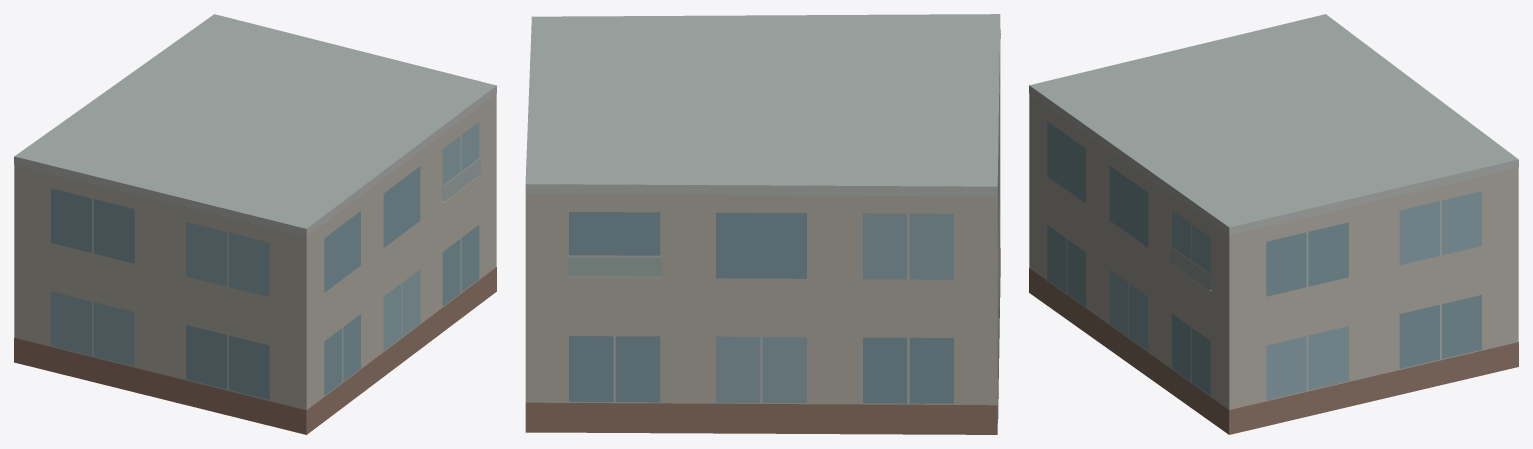
Rendered from survey-upis-32695349.glb.
3 views of the same model, side by side, from view 1: azimuth 30°, elevation 25°; view 2: azimuth 150°, elevation 25°; view 3: azimuth 270°, elevation 25° (orthographic). The views are drawn at different scales.
Visible parts, largest first — view 1: survey-upis-32695349.tmp; view 2: survey-upis-32695349.tmp; view 3: survey-upis-32695349.tmp.
Part boxes in pixels (<box>): survey-upis-32695349.tmp: <box>14,14,496,434</box>; survey-upis-32695349.tmp: <box>525,14,1000,434</box>; survey-upis-32695349.tmp: <box>1029,14,1518,434</box>.
Size of the model in its own units: 13.48 by 6.1 by 13.06.
